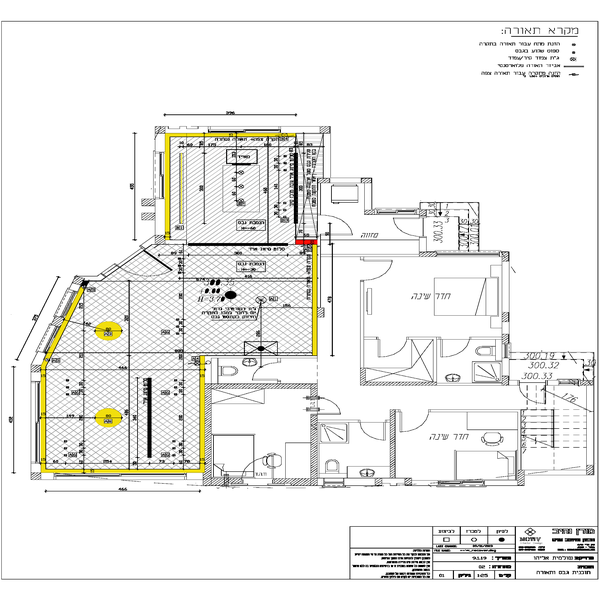door: (117, 249, 176, 285), (242, 443, 282, 492), (314, 212, 362, 249), (391, 406, 434, 434), (249, 354, 285, 385), (438, 334, 476, 361), (388, 214, 425, 240), (308, 394, 344, 416), (360, 258, 394, 281), (376, 335, 408, 359), (360, 418, 387, 442)
room: (154, 118, 330, 247), (148, 116, 327, 241), (358, 250, 512, 388), (162, 239, 320, 358), (385, 394, 529, 490), (199, 376, 323, 487), (312, 405, 398, 488)
wall: (200, 381, 219, 486), (207, 377, 317, 395), (42, 464, 205, 476), (160, 134, 177, 239), (38, 366, 56, 456), (197, 356, 207, 471), (423, 248, 510, 261), (307, 415, 323, 484), (175, 134, 303, 141), (388, 409, 398, 474), (274, 473, 317, 488), (202, 476, 243, 489), (515, 470, 527, 484)
window: (207, 125, 283, 141), (153, 151, 169, 200), (434, 477, 484, 488), (377, 207, 422, 217), (498, 346, 516, 361)
